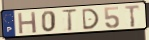0: (41, 10, 57, 34)
5: (103, 6, 120, 29)
D: (81, 8, 101, 31)
H: (17, 11, 38, 36)
T: (61, 8, 79, 32), (124, 4, 141, 28)
